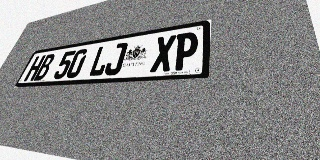0: (64, 48, 89, 78)
5: (52, 50, 76, 79)
B: (33, 53, 56, 81)
H: (23, 55, 46, 81)
J: (103, 42, 128, 76)
L: (87, 44, 113, 77)
P: (172, 31, 199, 71)
X: (150, 34, 176, 72)
